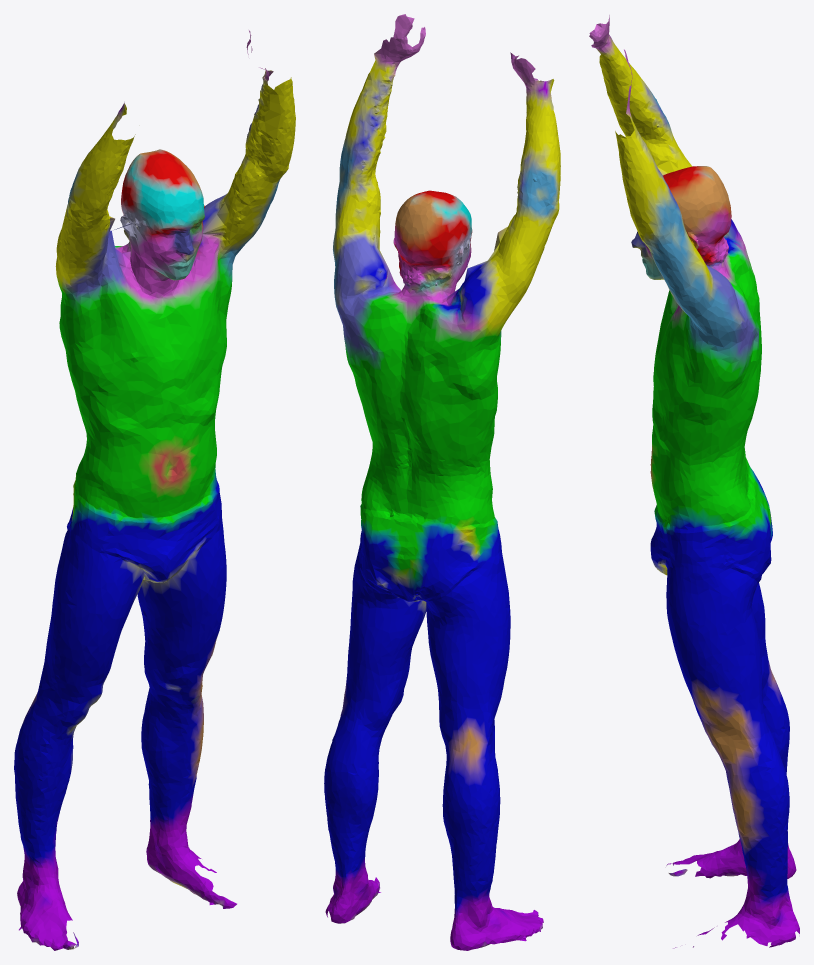
Rendered from 199_output_fine_grained.glb.
3 views of the same model, side by side, from view 1: azimuth 30°, elevation 25°; view 2: azimuth 150°, elevation 25°; view 3: azimuth 270°, elevation 25° (orthographic). The views are drawn at different scales.
Visible parts, largest first — view 1: 199_output_fine_grained.obj; view 2: 199_output_fine_grained.obj; view 3: 199_output_fine_grained.obj.
Boxes of the visible parts, left/top/right/bottom form: 199_output_fine_grained.obj: left=14, top=30, right=295, bottom=950; 199_output_fine_grained.obj: left=324, top=14, right=560, bottom=950; 199_output_fine_grained.obj: left=589, top=15, right=799, bottom=948.
Size of the model in its own units: 0.5887 by 2.19 by 0.4624.
